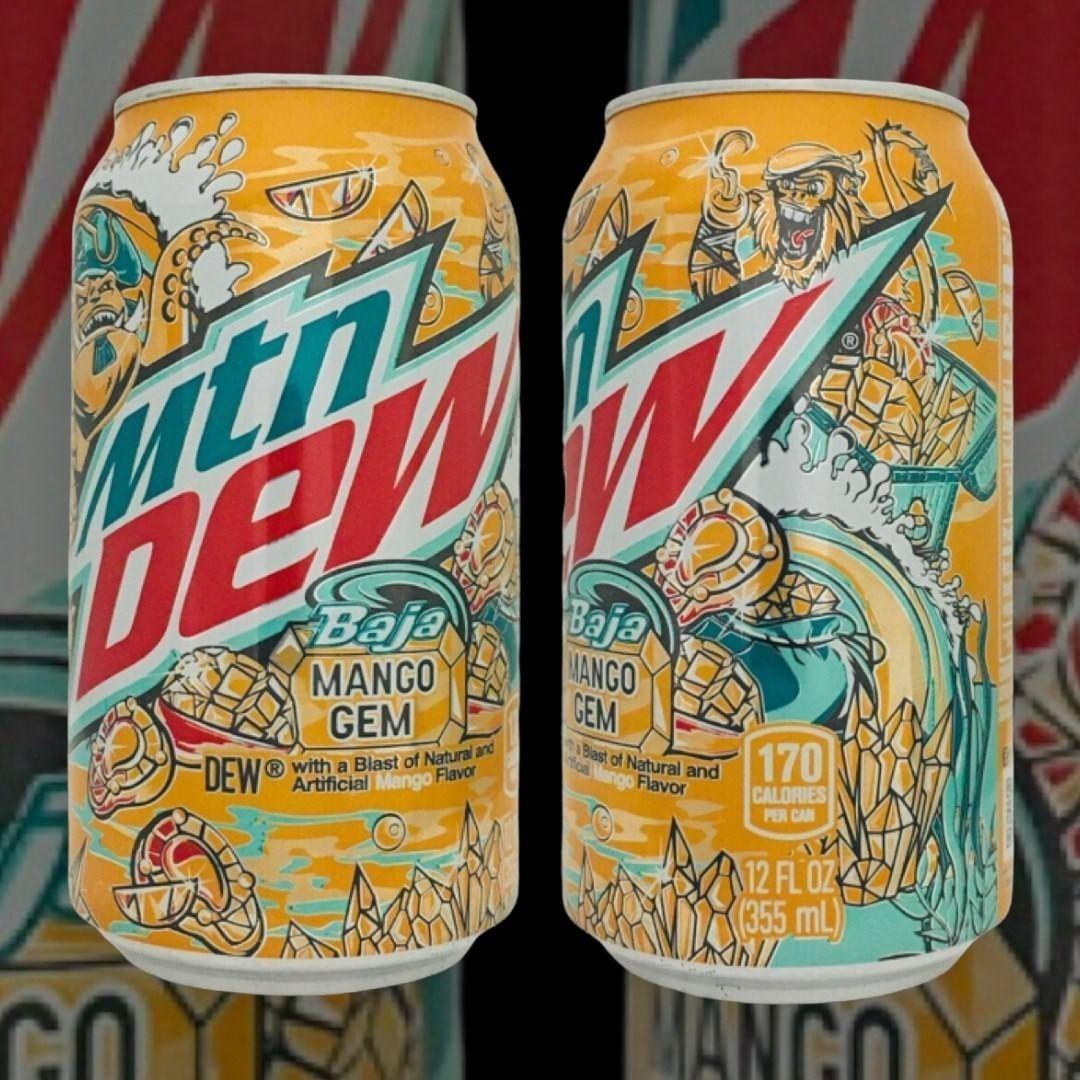tin can: (546, 67, 1029, 999), (66, 61, 542, 995)
